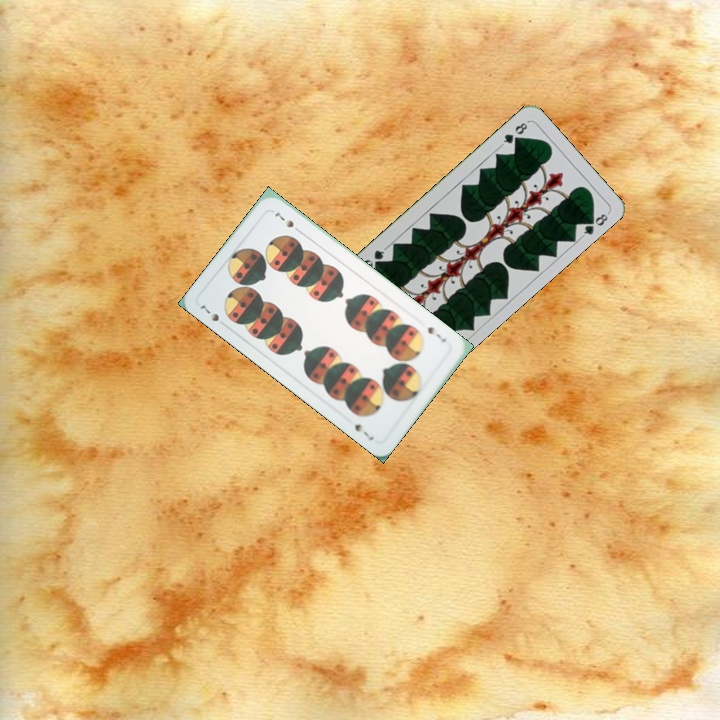G8: (497, 118, 531, 148)
S7: (196, 301, 230, 330), (423, 322, 449, 345)
